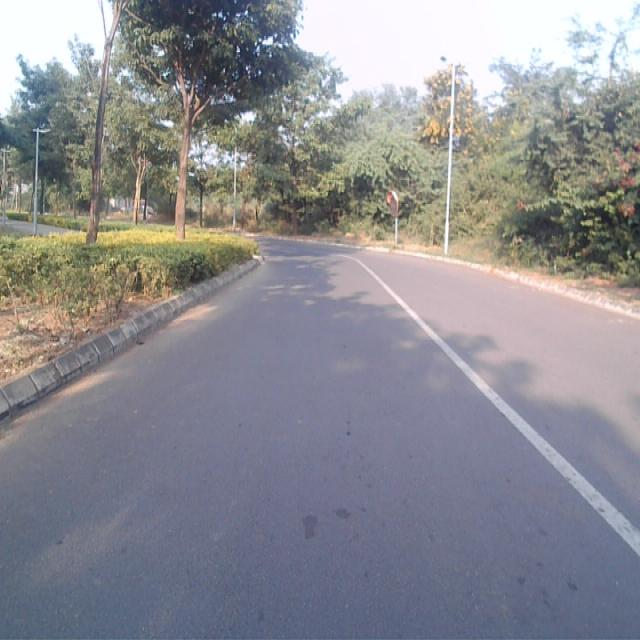lane: (0, 244, 640, 640)
